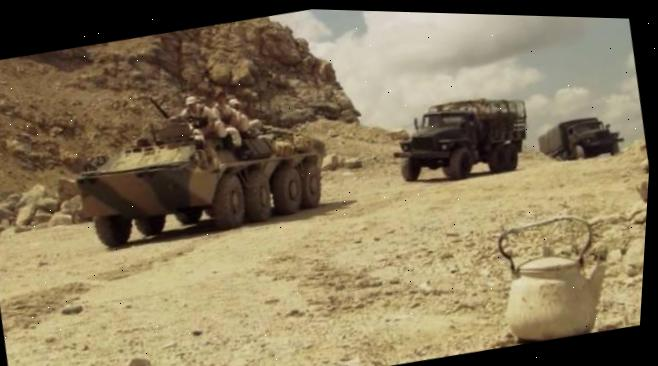tank: (53, 74, 353, 280)
truck: (381, 86, 539, 194), (533, 109, 629, 170)
